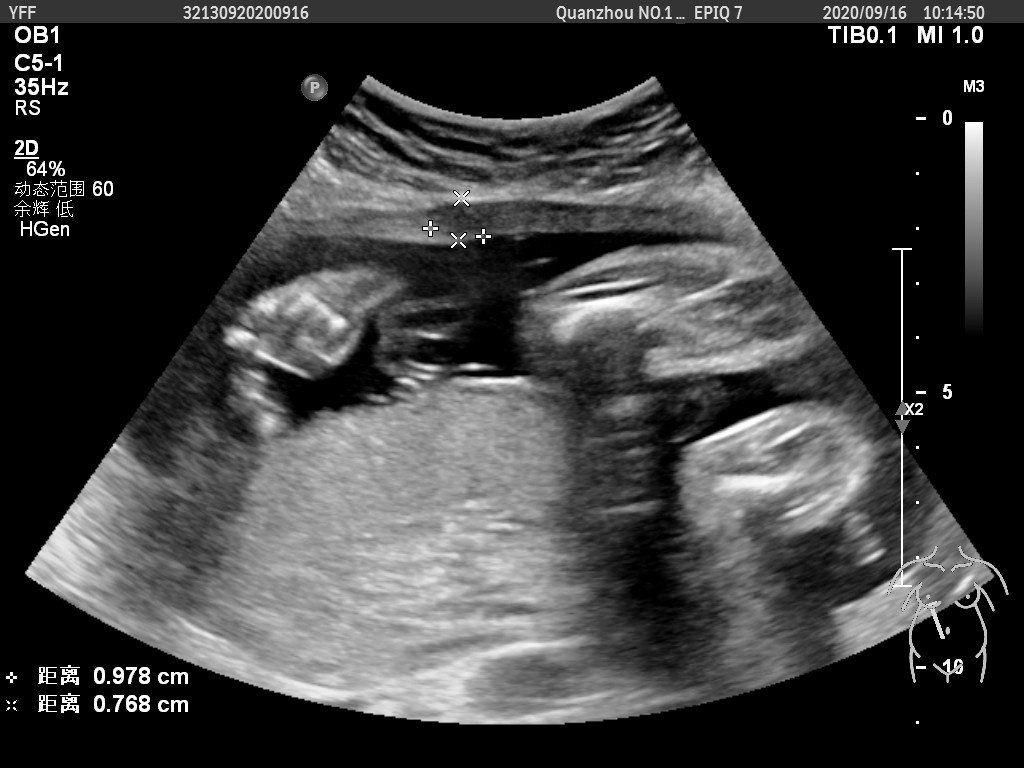肌瘤: (430, 202, 486, 237)
